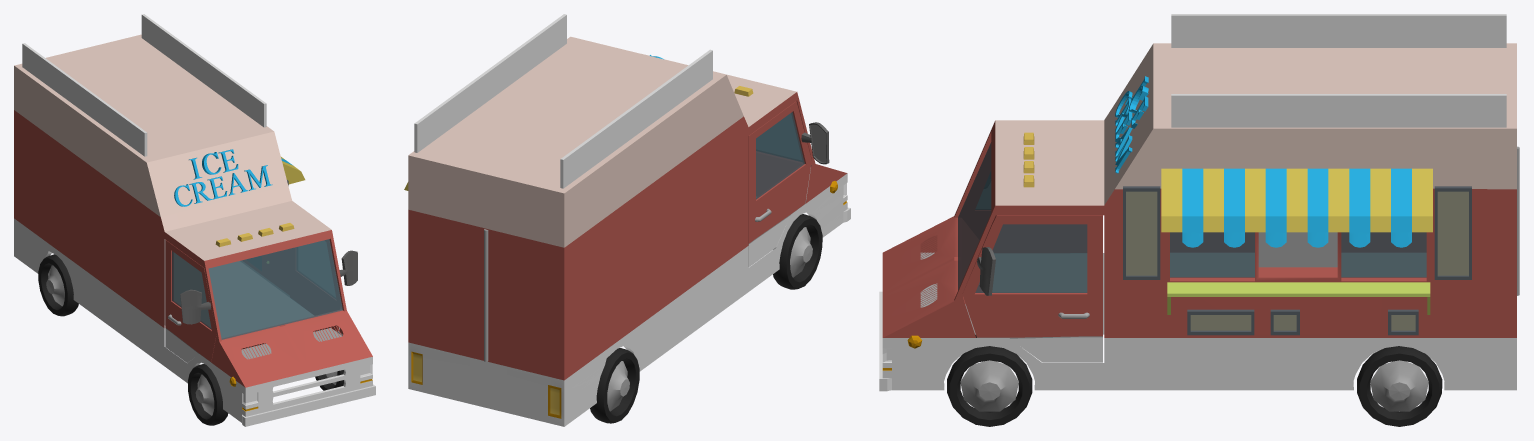
File: ICE CREAM.fbx
3 renders of one model, left to right at view 1: azimuth 30°, elevation 25°; view 2: azimuth 150°, elevation 25°; view 3: azimuth 270°, elevation 25°, orthographic. The views are drawn at different scales.
Visible parts, largest first — view 1: polySurface6; view 2: polySurface6; view 3: polySurface6.
Boxes of the visible parts, x1,y1,x2,y2 form: polySurface6: [14, 14, 375, 426]; polySurface6: [404, 14, 850, 426]; polySurface6: [879, 14, 1519, 426].
Bounding box in the file's own units: 2.99 × 3.61 × 6.34.
